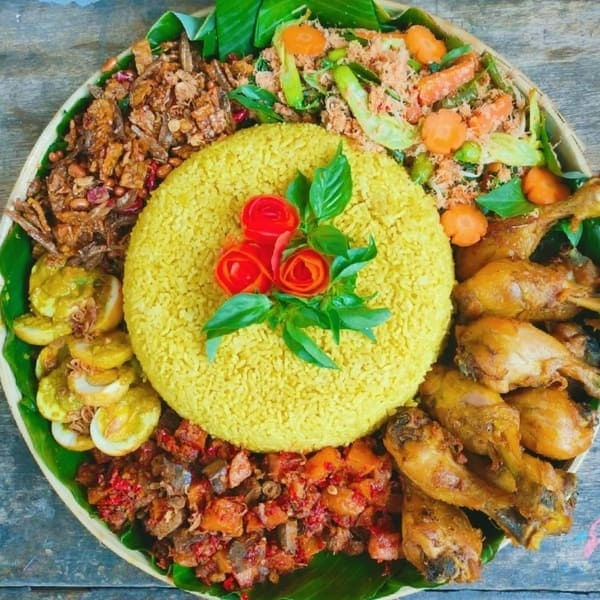nasi_tumpeng: (8, 3, 595, 584)
